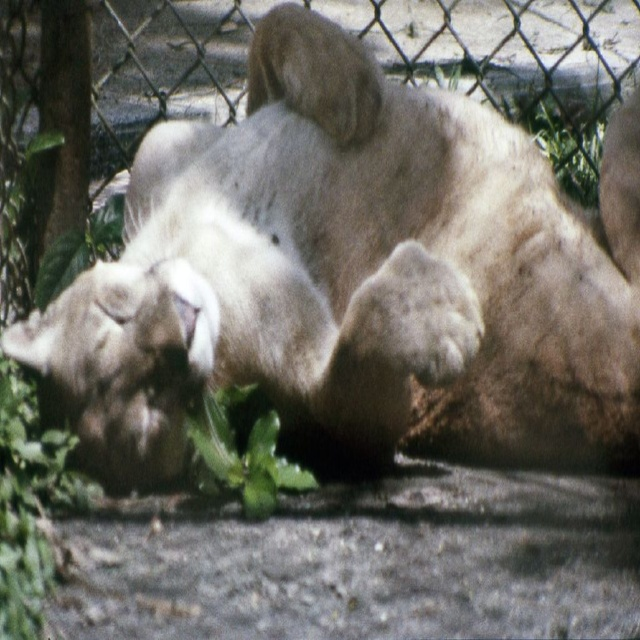Lion: (0, 0, 640, 492)
